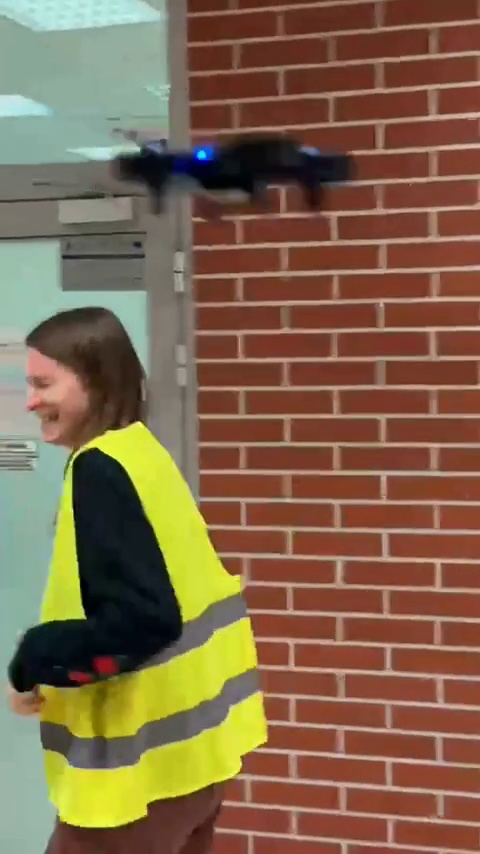drone: (107, 130, 358, 219)
vest: (0, 303, 274, 842)
